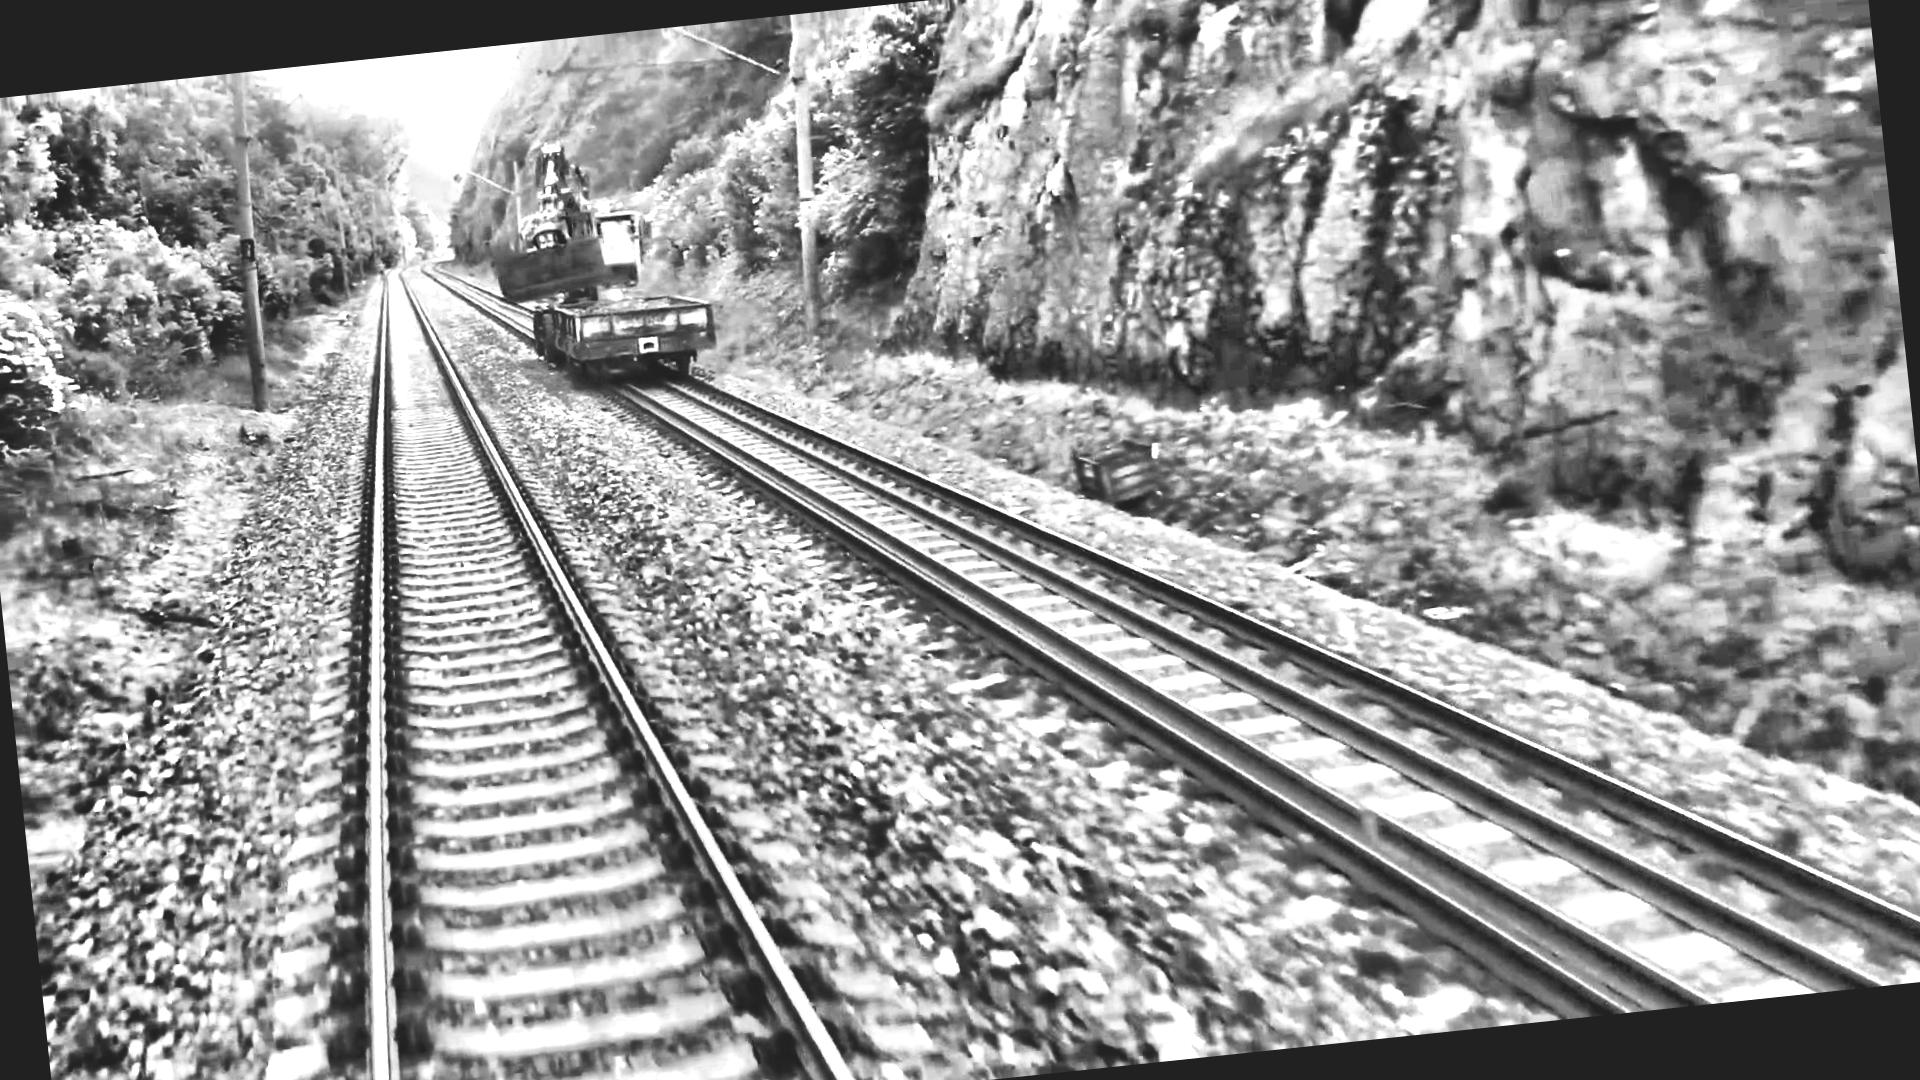Car: (446, 103, 749, 410)
Trash: (1055, 417, 1184, 526)
